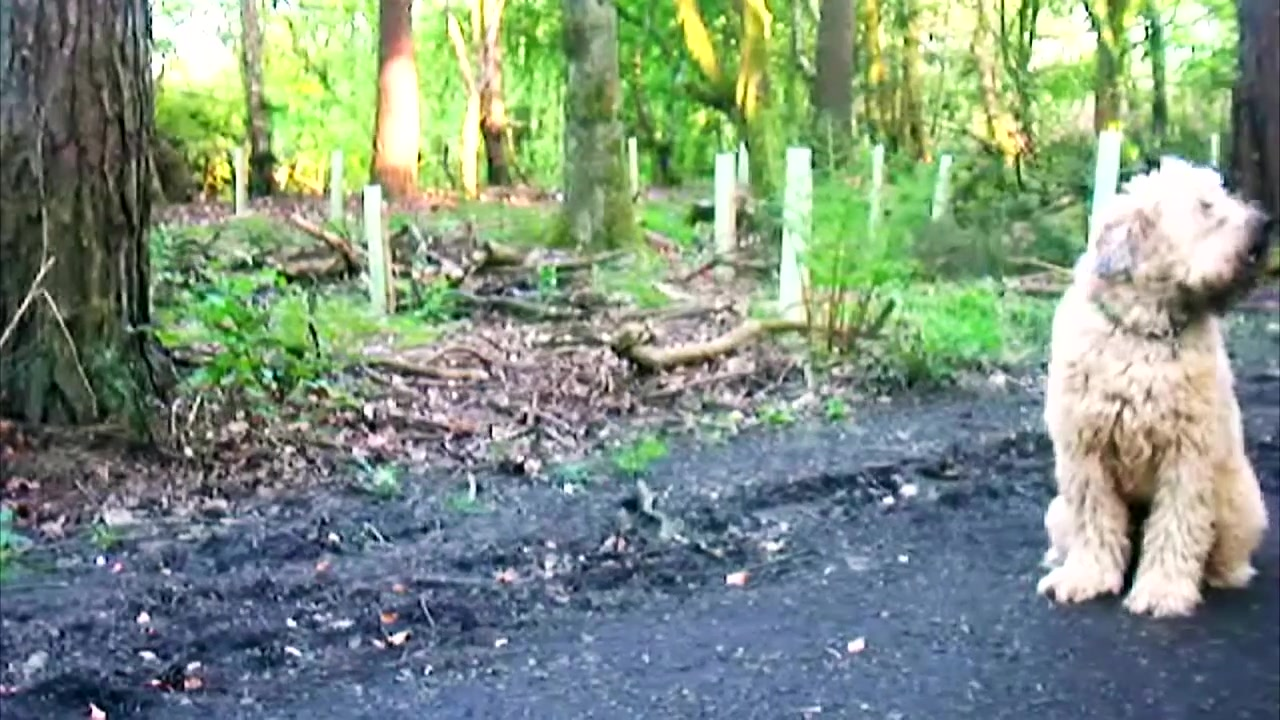dog: (1036, 157, 1271, 625)
